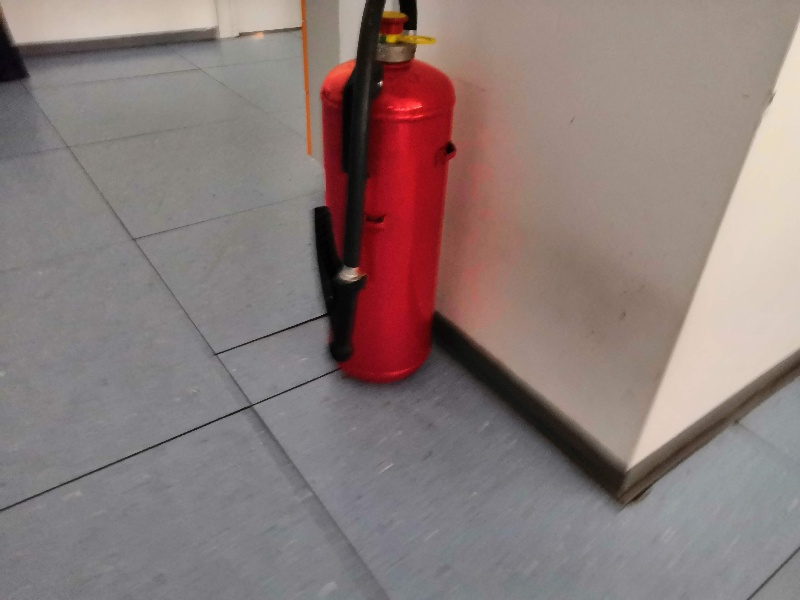vataparat: (309, 1, 455, 383)
